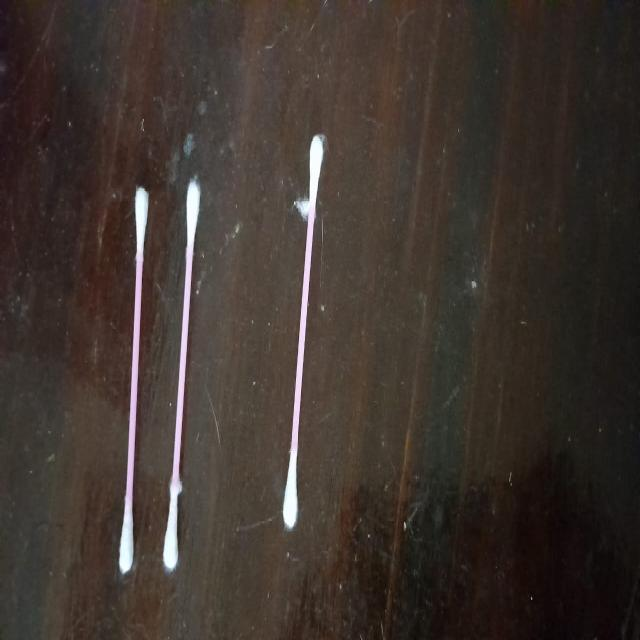Earbud - Non Recyclable: (115, 164, 211, 600), (281, 130, 327, 532)
